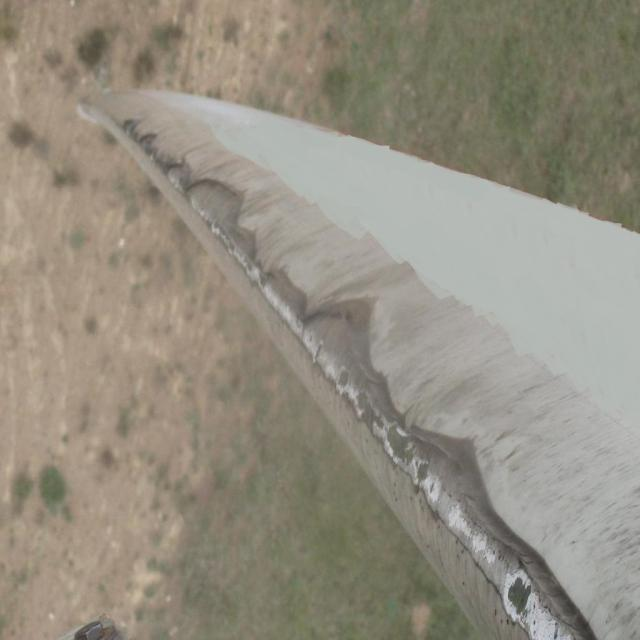crack: (389, 430, 599, 634), (228, 241, 398, 408), (125, 123, 250, 228)
